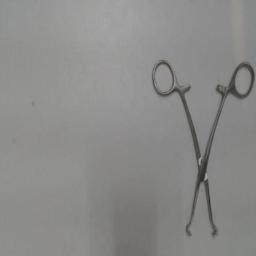Babcock Tissue Forceps: (145, 56, 255, 240)
